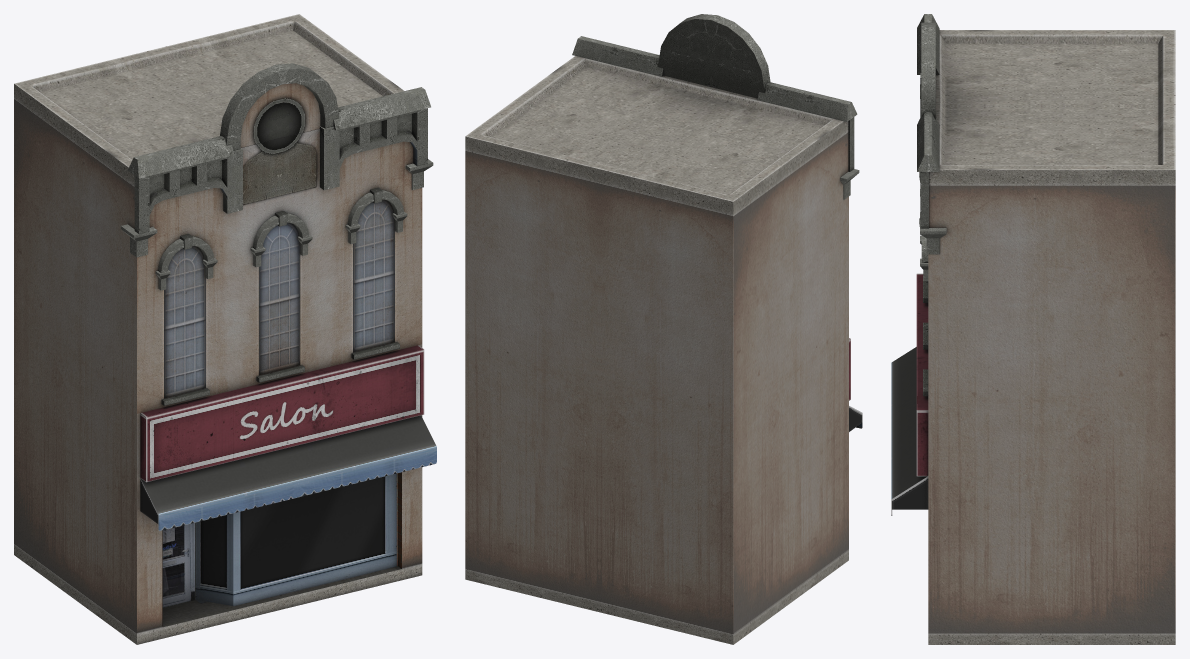
The model's file is salon.dae.
3 renders of one model, left to right at view 1: azimuth 30°, elevation 25°; view 2: azimuth 150°, elevation 25°; view 3: azimuth 270°, elevation 25°, orthographic. The views are drawn at different scales.
Visible parts, largest first — view 1: Downtown_3; view 2: Downtown_3; view 3: Downtown_3.
Boxes of the visible parts, <box> form: Downtown_3: <box>14,14,436,644</box>; Downtown_3: <box>465,14,862,644</box>; Downtown_3: <box>891,14,1175,644</box>.
Size of the model in its own units: 298 by 243 by 516.
